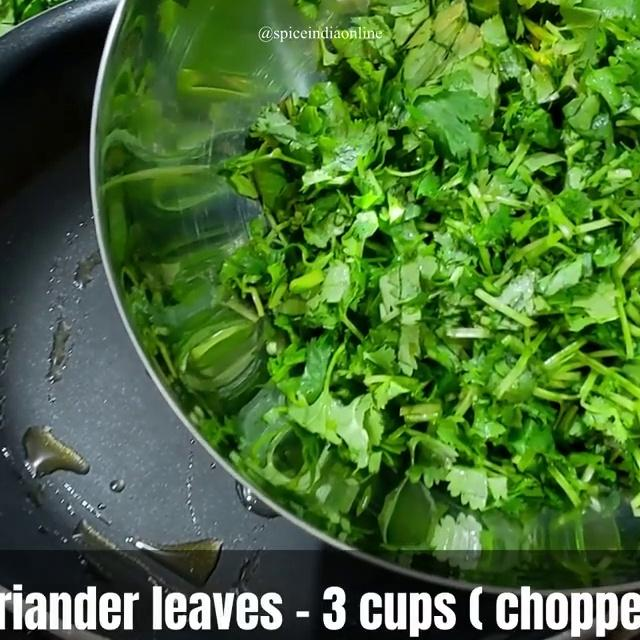cilantro: (247, 0, 640, 440)
